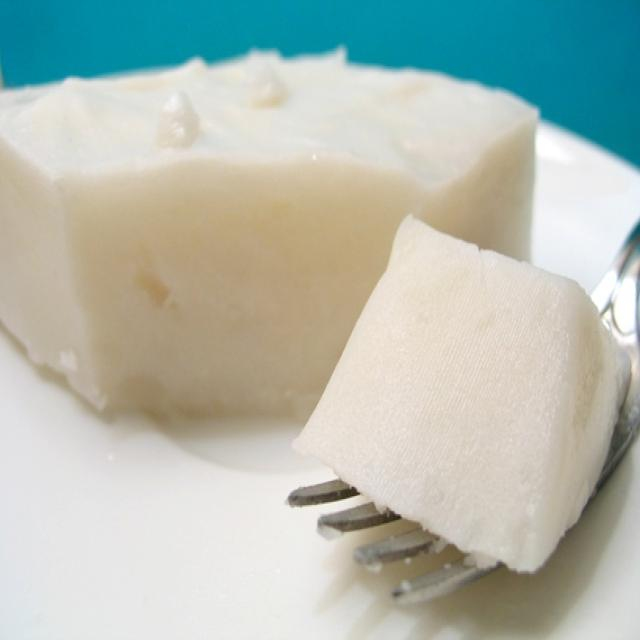蛋糕甜品: (1, 34, 623, 631)
